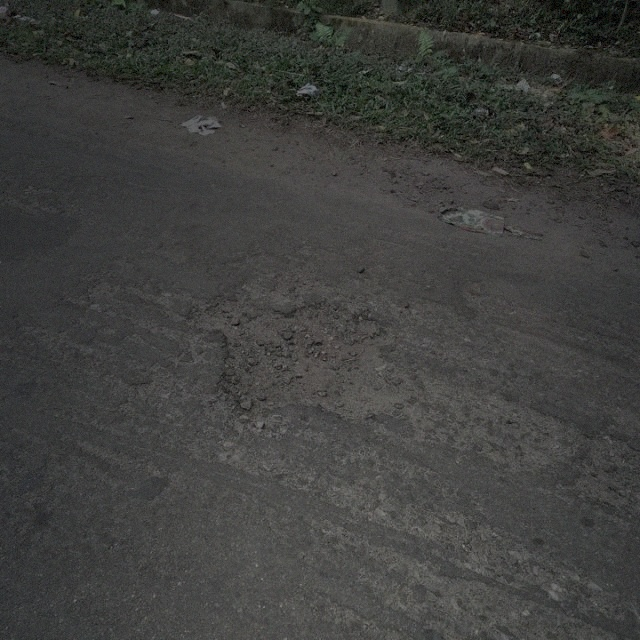pothole: (185, 295, 404, 422)
